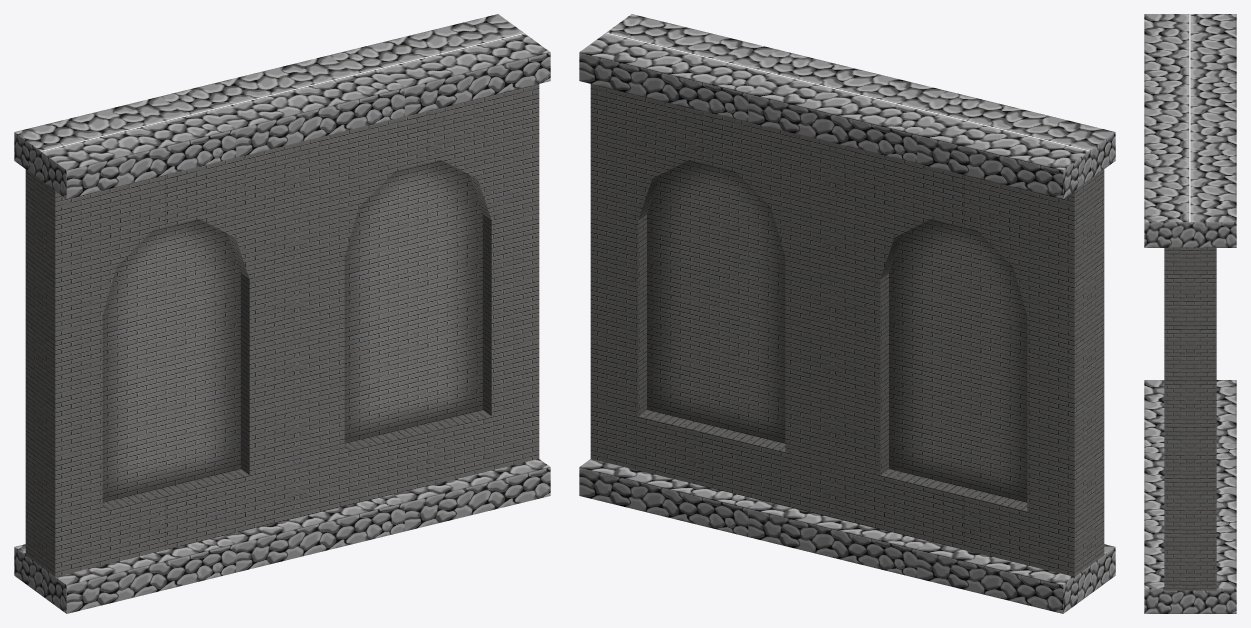
The picture shows the model from 3 angles, left to right: view 1: azimuth 30°, elevation 25°; view 2: azimuth 150°, elevation 25°; view 3: azimuth 270°, elevation 25°; orthographic projection. The views are drawn at different scales.
Visible parts, largest first — view 1: Base; view 2: Base; view 3: Base.
Boxes of the visible parts, box(x1,y1,x2,y2) form: Base: box(14, 14, 550, 613); Base: box(579, 14, 1115, 613); Base: box(1144, 14, 1236, 613).
Bounding box in the file's own units: 318 × 279 × 59.57.
